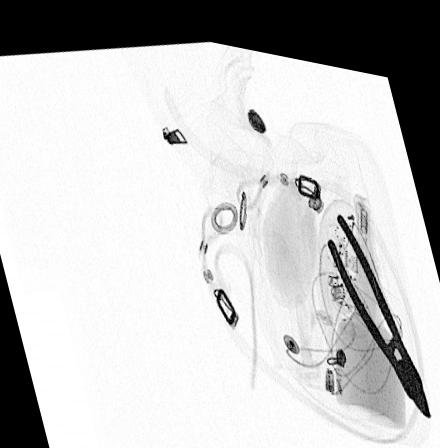Pliers: (324, 191, 435, 406)
